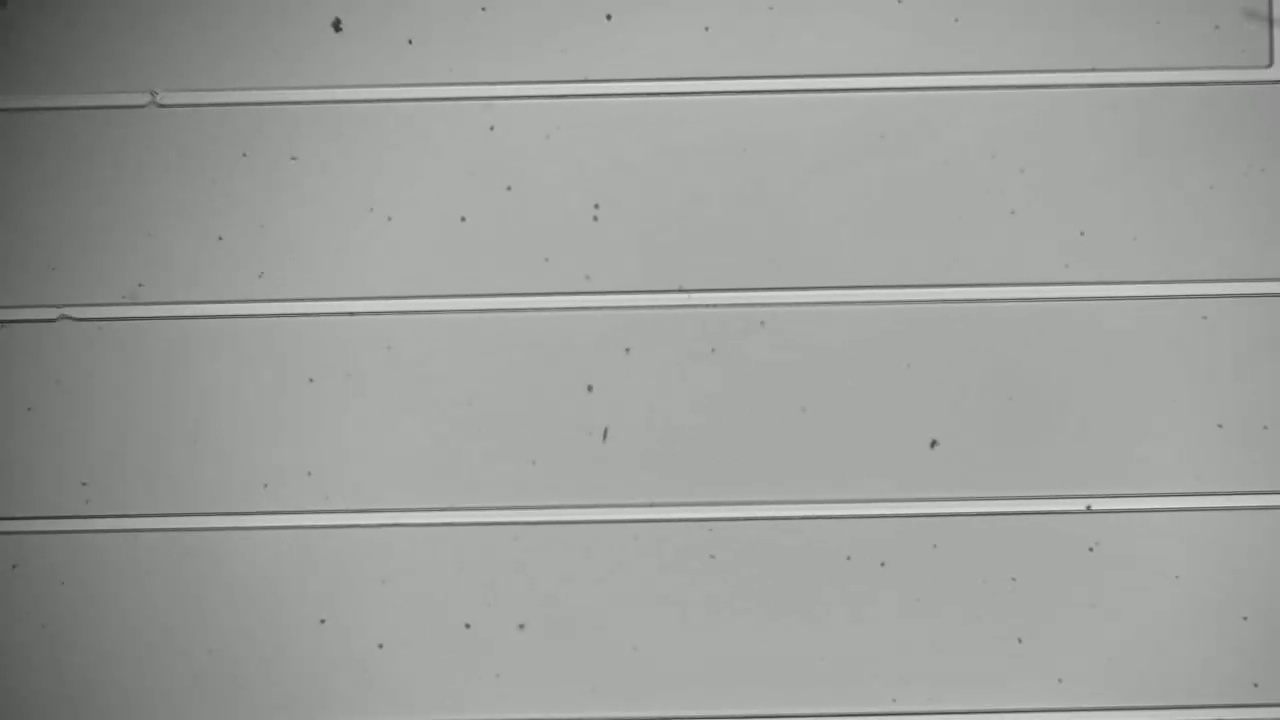edge_bite: (41, 296, 90, 333), (139, 79, 166, 114)
